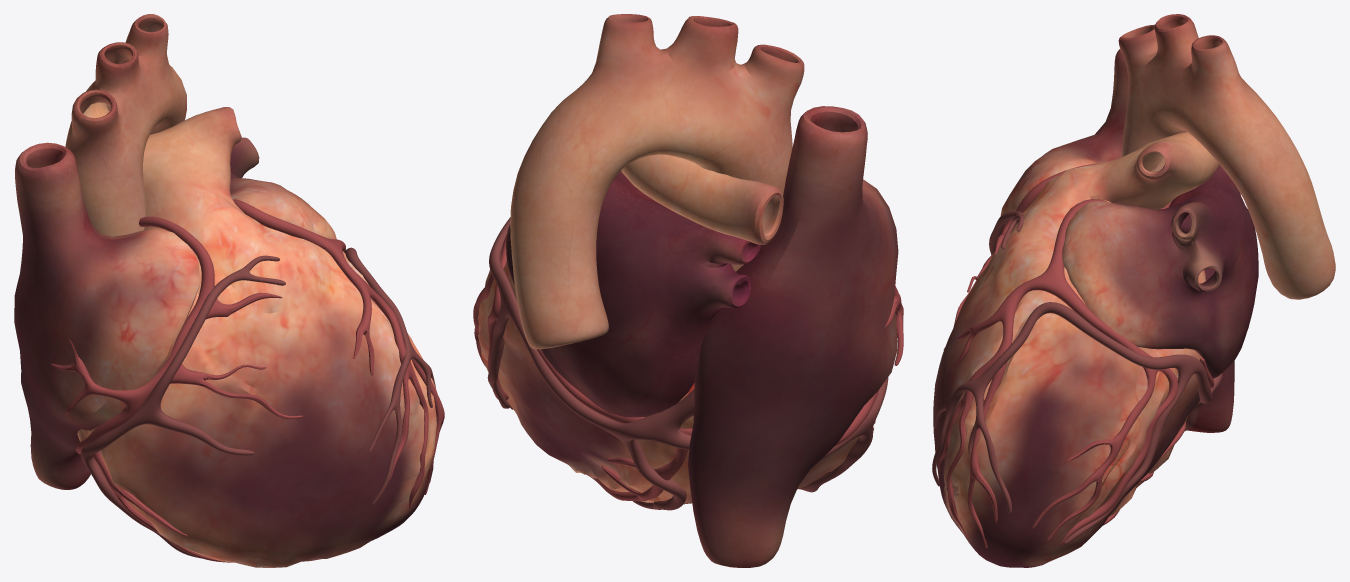
The model's file is PATIENT_Heart_Anatomico.glb.
3 views of the same model, side by side, from view 1: azimuth 30°, elevation 25°; view 2: azimuth 150°, elevation 25°; view 3: azimuth 270°, elevation 25° (orthographic). The views are drawn at different scales.
Visible parts, largest first — view 1: Heart_Animated_Master; view 2: Heart_Animated_Master; view 3: Heart_Animated_Master.
Part boxes in pixels (x1,y1,x2,y2): Heart_Animated_Master: [14, 14, 444, 567]; Heart_Animated_Master: [473, 14, 903, 567]; Heart_Animated_Master: [932, 14, 1335, 567].
Size of the model in its own units: 0.0349 by 0.0452 by 0.0349.
Materials: 6 (4 with a texture image).
